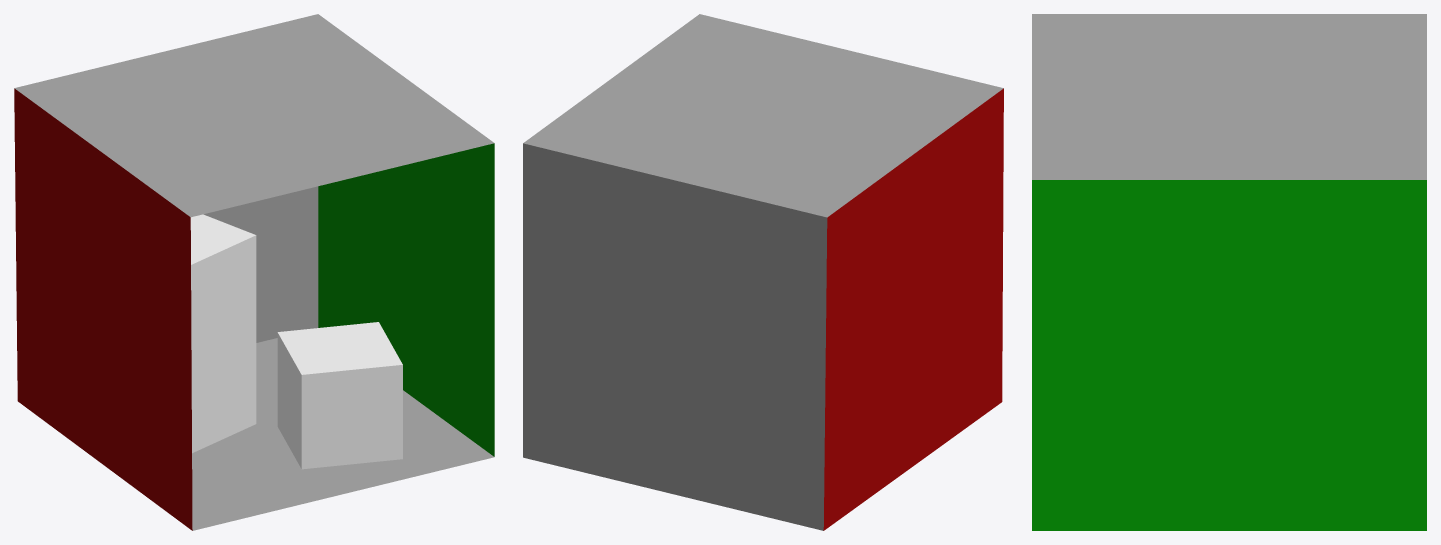
Rendered from CornellBox.glb.
3 renders of one model, left to right at view 1: azimuth 30°, elevation 25°; view 2: azimuth 150°, elevation 25°; view 3: azimuth 270°, elevation 25°, orthographic. The views are drawn at different scales.
Parts seen in each view (by area): view 1: cornell_box, small_box, large_box; view 2: cornell_box; view 3: cornell_box.
Boxes of the visible parts, box(x1,y1,x2,y2) form: cornell_box: box(14, 14, 494, 530); small_box: box(277, 322, 402, 469); large_box: box(190, 214, 256, 453); cornell_box: box(523, 14, 1003, 530); cornell_box: box(1032, 14, 1426, 530).
Bounding box in the file's own units: 7.58 × 7.48 × 7.62.
